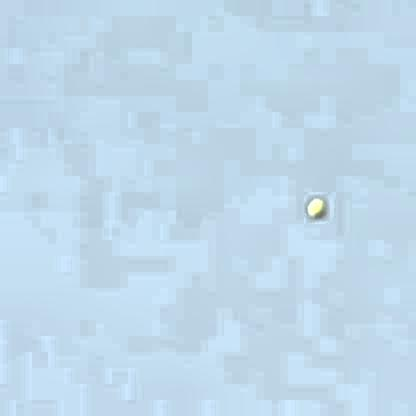golfball: (302, 197, 326, 219)
